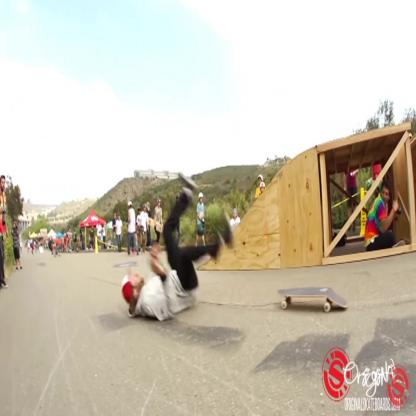Fall_Down: (121, 170, 235, 326)
